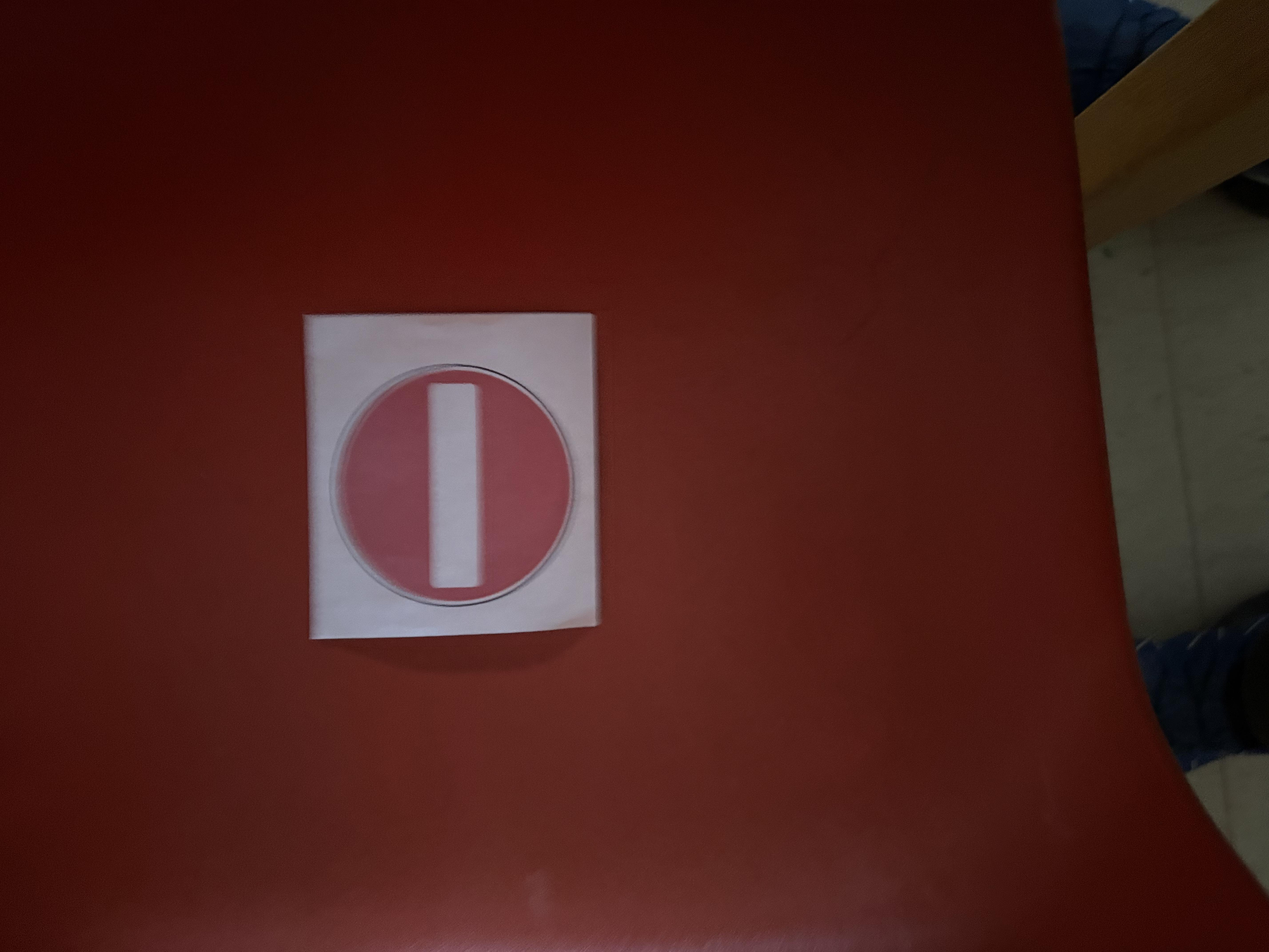No Entry: (311, 324, 587, 630)
